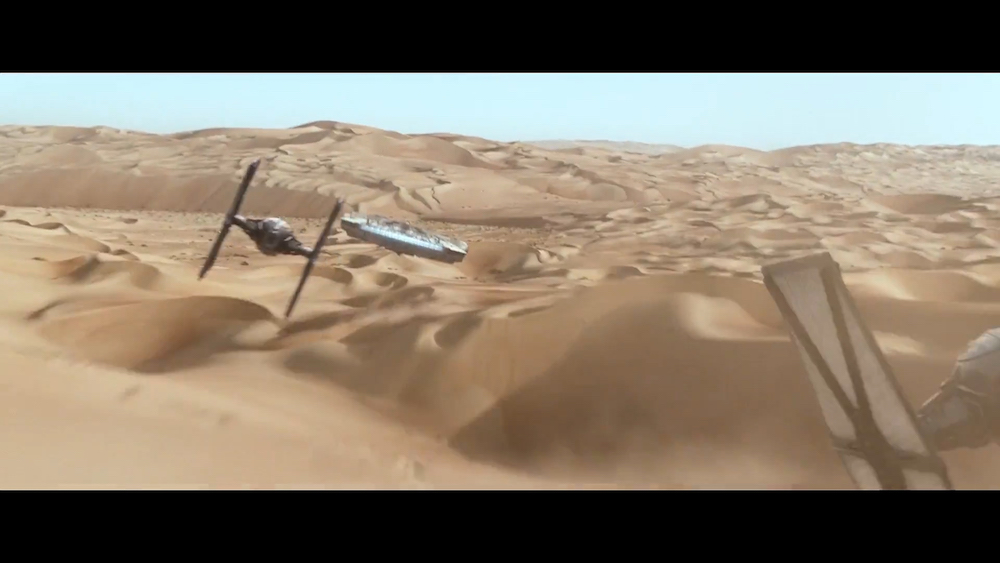Millennium Falcon: (342, 213, 469, 265)
Tie Fighter: (761, 250, 1000, 490), (198, 157, 345, 321)
